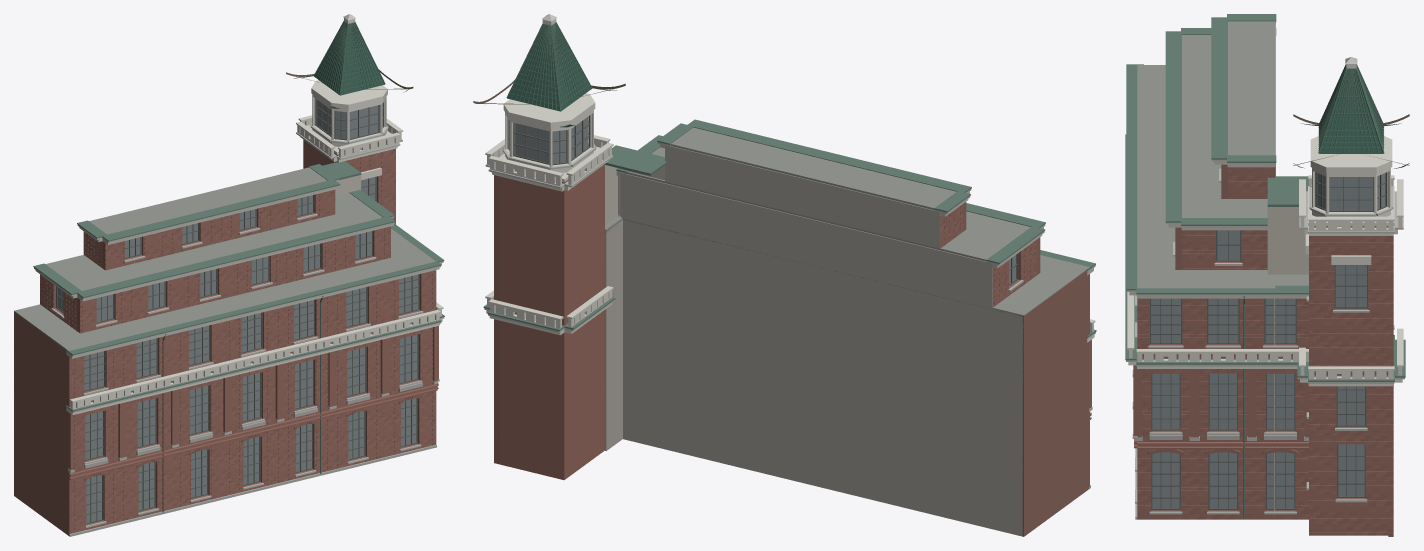
File: hongkou-east-daming-road-378-web.glb
3 renders of one model, left to right at view 1: azimuth 30°, elevation 25°; view 2: azimuth 150°, elevation 25°; view 3: azimuth 270°, elevation 25°, orthographic. The views are drawn at different scales.
Parts seen in each view (by area): view 1: 东大名路378号红砖办公楼街面与塔亭; view 2: 东大名路378号红砖办公楼街面与塔亭; view 3: 东大名路378号红砖办公楼街面与塔亭.
Boxes of the visible parts, x1,y1,x2,y2 form: 东大名路378号红砖办公楼街面与塔亭: (14, 14, 444, 536); 东大名路378号红砖办公楼街面与塔亭: (473, 14, 1096, 536); 东大名路378号红砖办公楼街面与塔亭: (1125, 14, 1409, 536).
Size of the model in its own units: 30.8 by 26.76 by 14.9.
